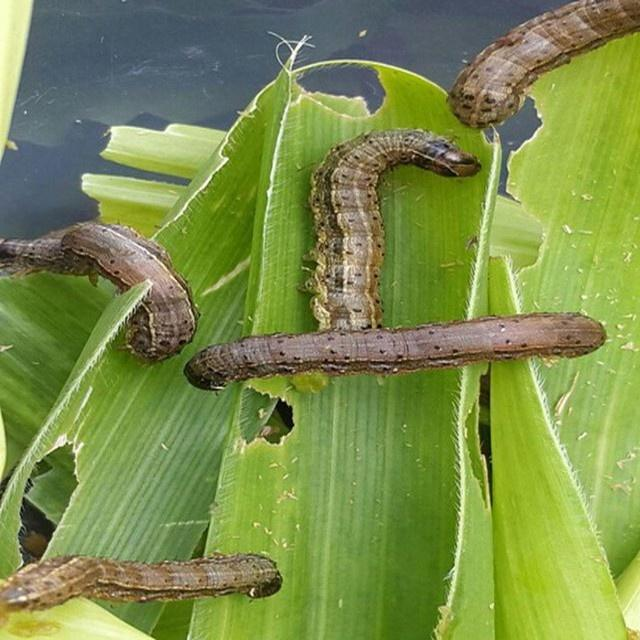worm: (188, 292, 604, 437), (298, 105, 485, 403), (1, 220, 201, 365), (446, 1, 640, 130), (1, 550, 284, 630)
